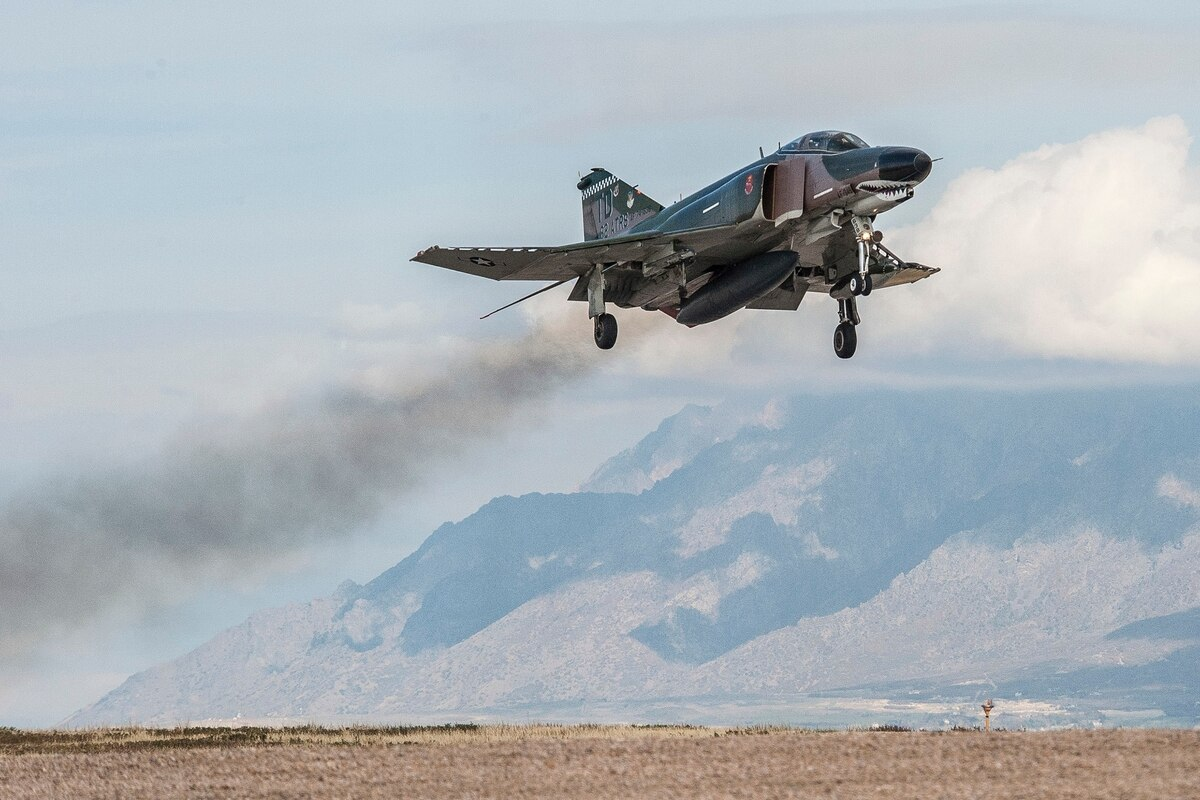F4: (408, 129, 944, 359)
